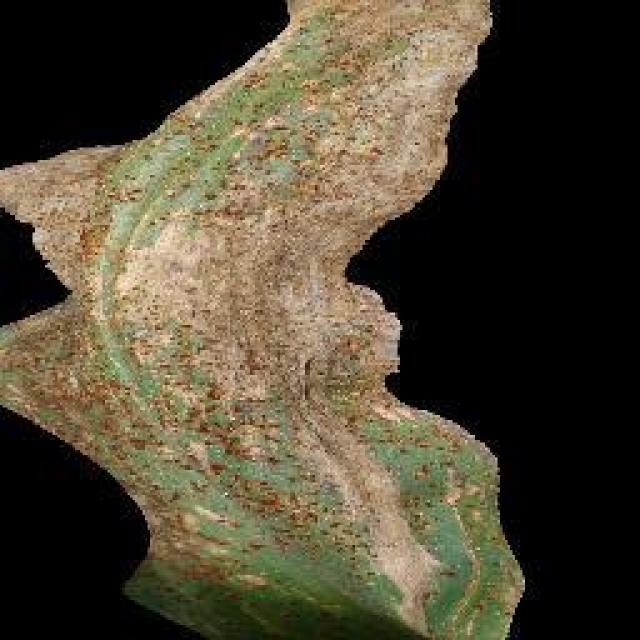Corn Common Rust: (147, 48, 573, 545)
